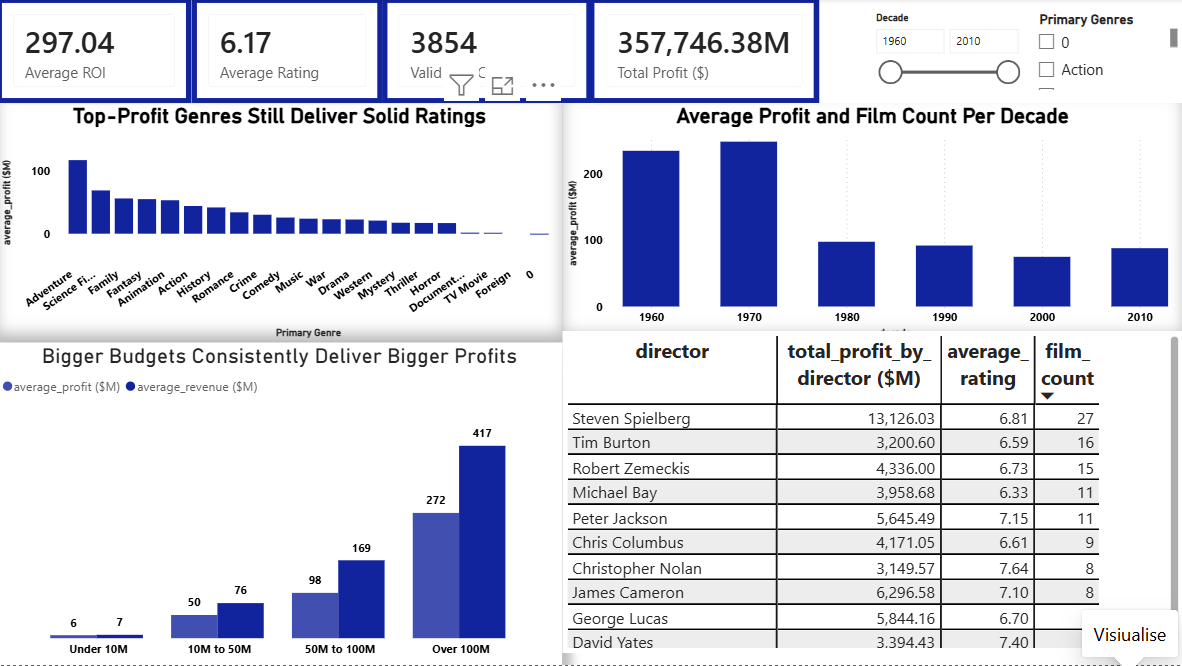

What the dashboard file says about the page in this screenshot:
{"tool":"powerbi","page":{"name":"Visiualise","canvas":[1280,720],"ordinal":8},"visuals":[{"type":"cardVisual","fields":{"Data":["Sheet1.Average ROI"]},"box":[0,0,209.8,113.4],"z":0},{"type":"cardVisual","fields":{"Data":["Sheet1.Total Profit(dashboard)"]},"box":[639.6,0,247.7,113.3],"z":1000},{"type":"cardVisual","fields":{"Data":["Sheet1.Average Rating(Dashboard)"]},"box":[209.8,0,206,113.4],"z":2000},{"type":"cardVisual","fields":{"Data":["Sheet1.Valid Film Count"]},"box":[416.1,0,225.1,113.3],"z":3000},{"type":"columnChart","title":"Top-Profit Genres Still Deliver Solid Ratings","fields":{"Y":["Sheet1.average_profit"],"Category":["Sheet1.primary_genres"]},"box":[0,113.3,610,258.3],"z":4000},{"type":"clusteredColumnChart","title":"Bigger Budgets Consistently Deliver Bigger Profits","fields":{"Y":["Sheet1.average_profit","Sheet1.average_revenue"],"Category":["Sheet1.budget_band"]},"box":[0,371.7,610,348.3],"z":5000},{"type":"clusteredColumnChart","title":"Average Profit and Film Count Per Decade","fields":{"Y":["Sheet1.average_profit"],"Category":["Sheet1.decade"]},"box":[610,113.3,670,258.3],"z":6000},{"type":"tableEx","fields":{"Values":["Sheet1.director","Sheet1.total_profit","Sheet1.average_rating","Sheet1.Film Count"]},"box":[610,360,670,346.7],"z":7000},{"type":"slicer","fields":{"Values":["Sheet1.decade"]},"box":[935.9,9.7,176.5,98.8],"z":8000},{"type":"slicer","fields":{"Values":["Sheet1.primary_genres"]},"box":[1112.4,9.7,166.8,93.9],"z":9000}]}

Visuals, with their boxes in screenshot pixels (x1, y1, x2, y2), scaled from the page's 1280x720 canvas onto the 1182x666 screenshot:
cardVisual - Sheet1.Average ROI: locate(0, 0, 194, 105)
cardVisual - Sheet1.Total Profit(dashboard): locate(591, 0, 819, 105)
cardVisual - Sheet1.Average Rating(Dashboard): locate(194, 0, 384, 105)
cardVisual - Sheet1.Valid Film Count: locate(384, 0, 592, 105)
"Top-Profit Genres Still Deliver Solid Ratings" columnChart: locate(0, 105, 563, 344)
"Bigger Budgets Consistently Deliver Bigger Profits" clusteredColumnChart: locate(0, 344, 563, 665)
"Average Profit and Film Count Per Decade" clusteredColumnChart: locate(563, 105, 1181, 344)
tableEx - Sheet1.director x Sheet1.total_profit: locate(563, 333, 1181, 654)
slicer - Sheet1.decade: locate(864, 9, 1027, 100)
slicer - Sheet1.primary_genres: locate(1027, 9, 1181, 96)
